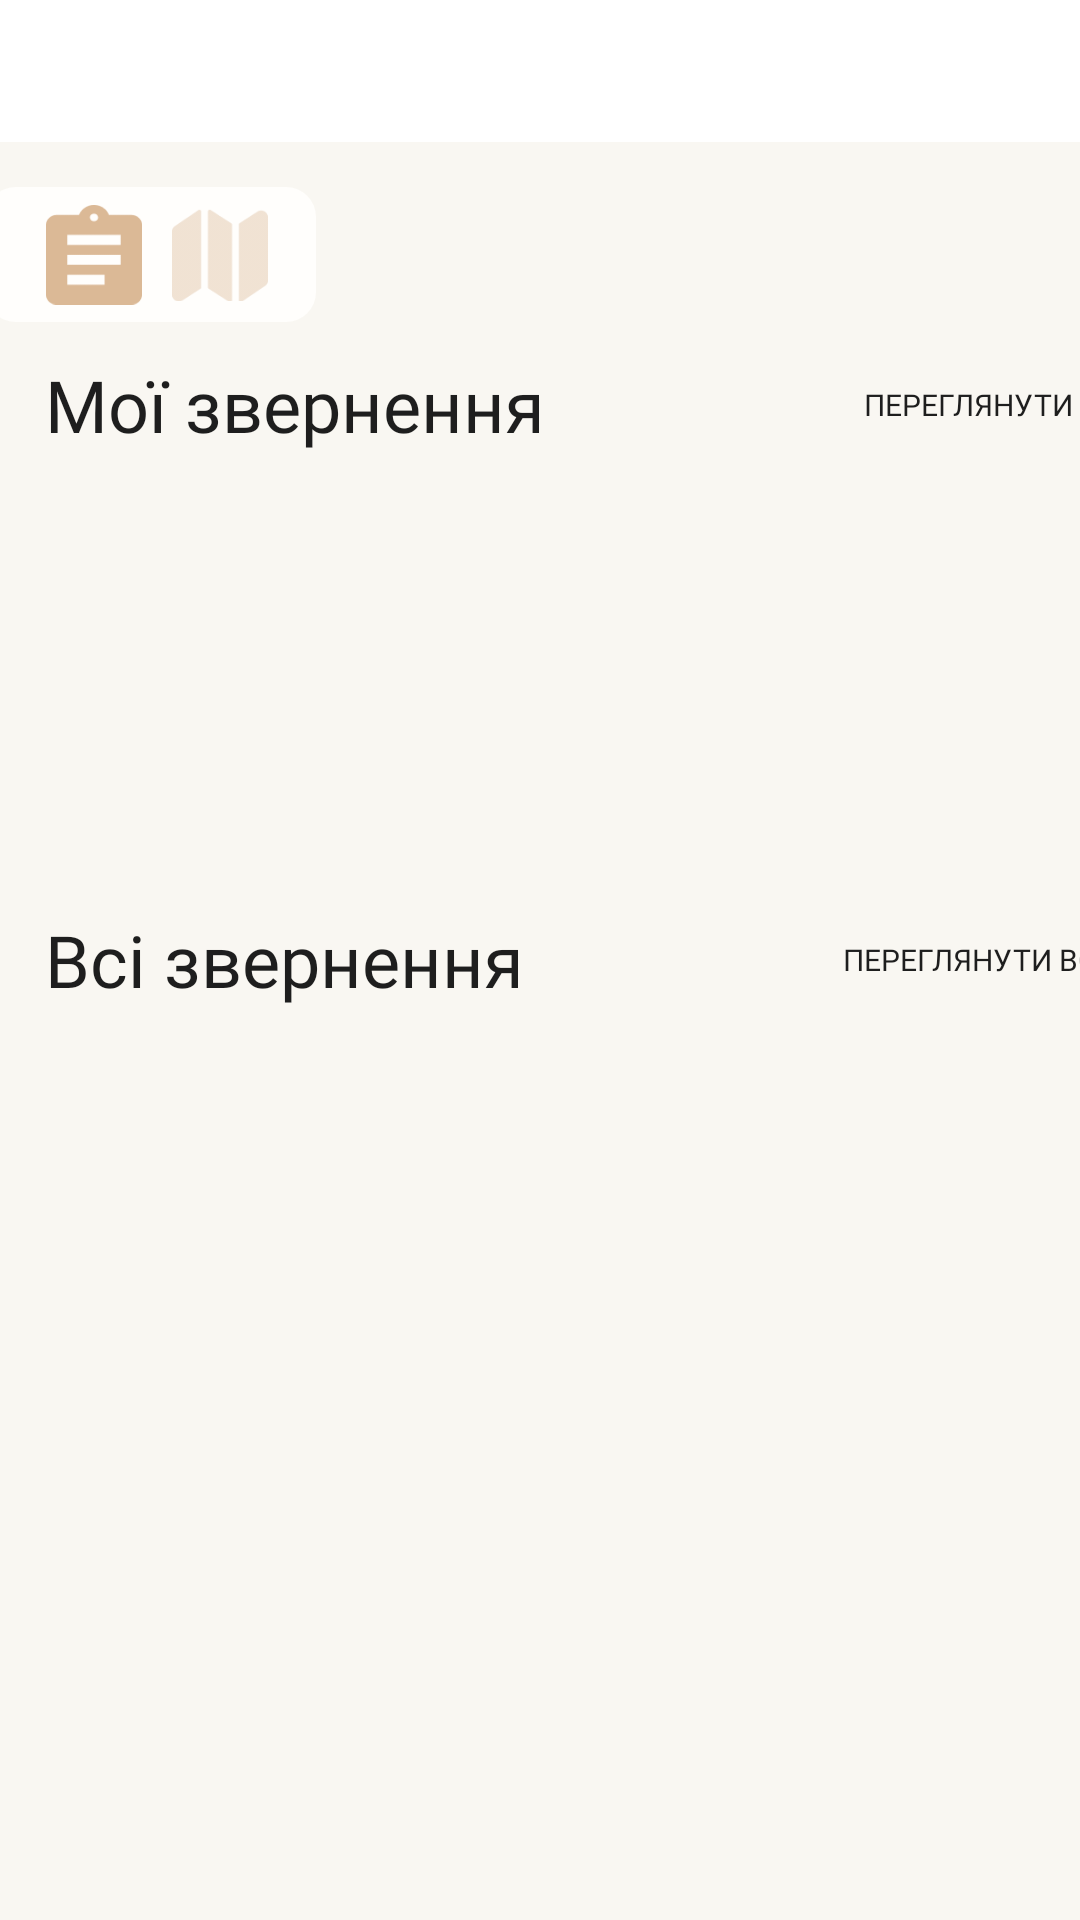

Screen size 1080w x 1920h. Icon name, then its box in pixels as (x1, y1, x2, y2):
list: (46, 205, 142, 305)
map: (172, 210, 268, 301)
